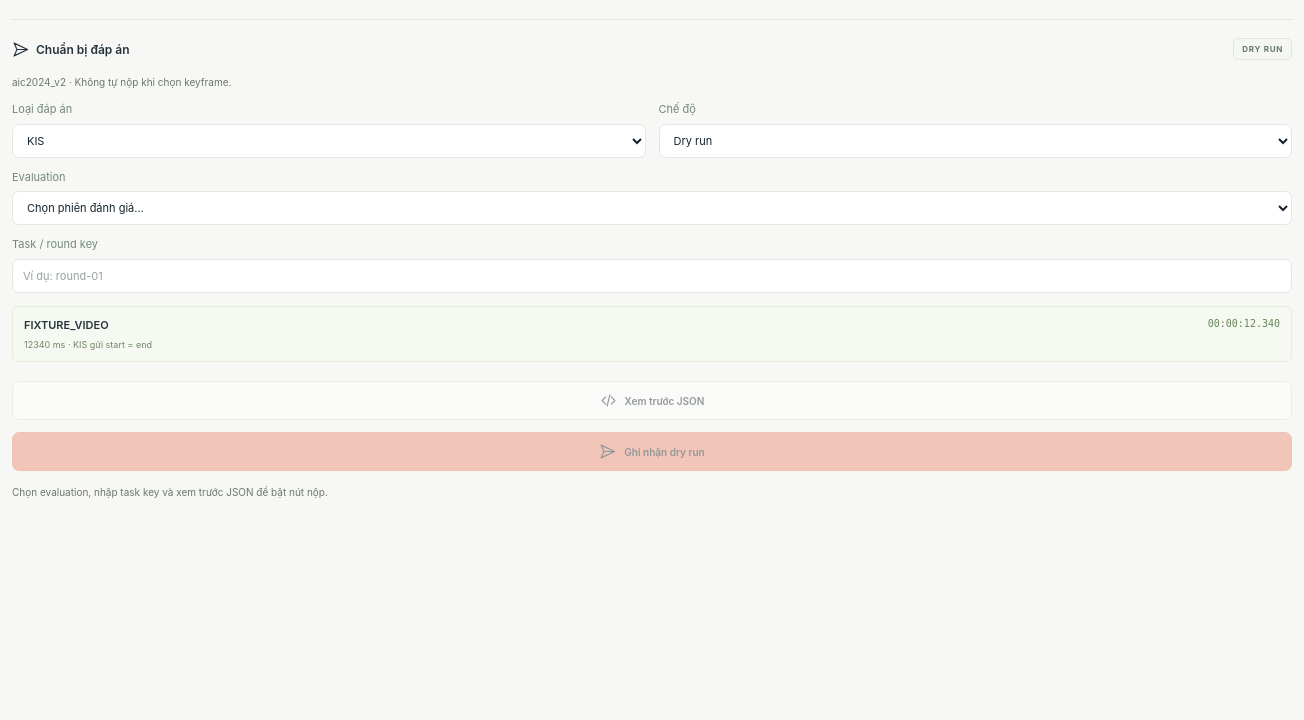
DRES deliberate submission › invalidates preview after the task changes
Select "Fixture · ACTIVE" in the dropdown labelled "Evaluation": (652, 208) [12, 191, 1292, 225]
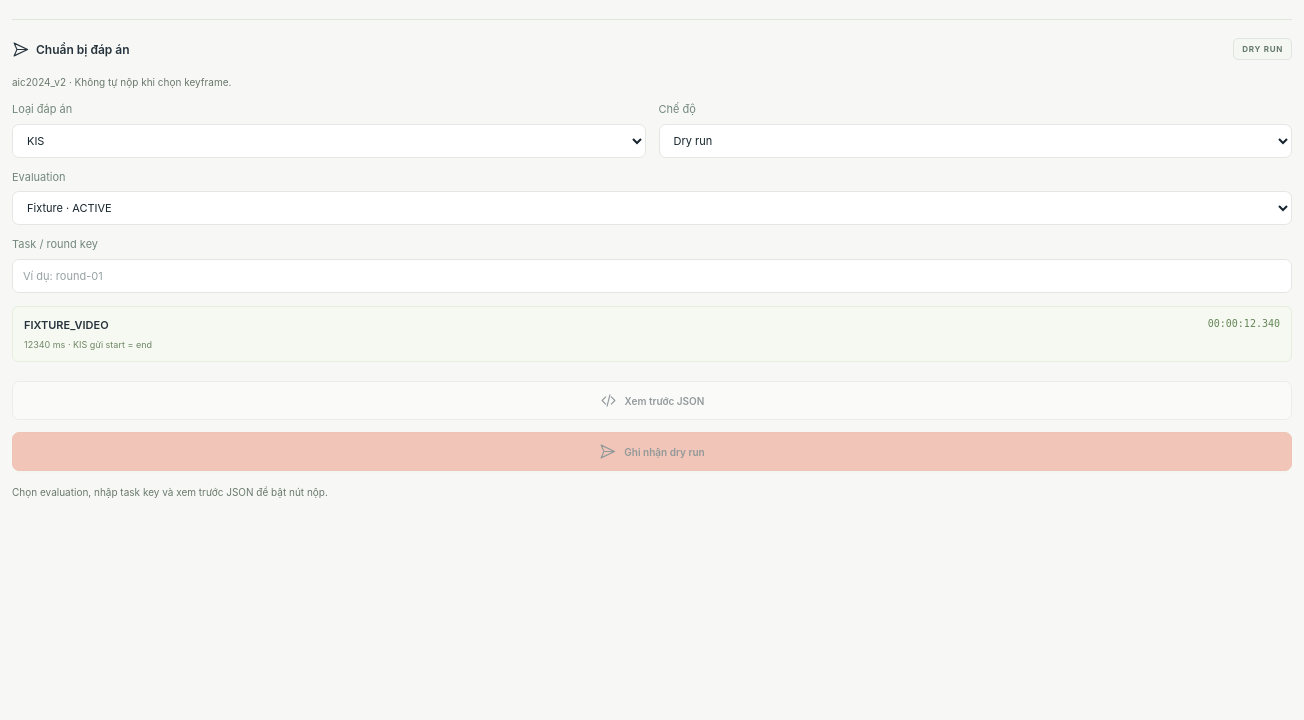
In the field labelled "Task / round key": (652, 276) [12, 258, 1292, 293], type "task-1"
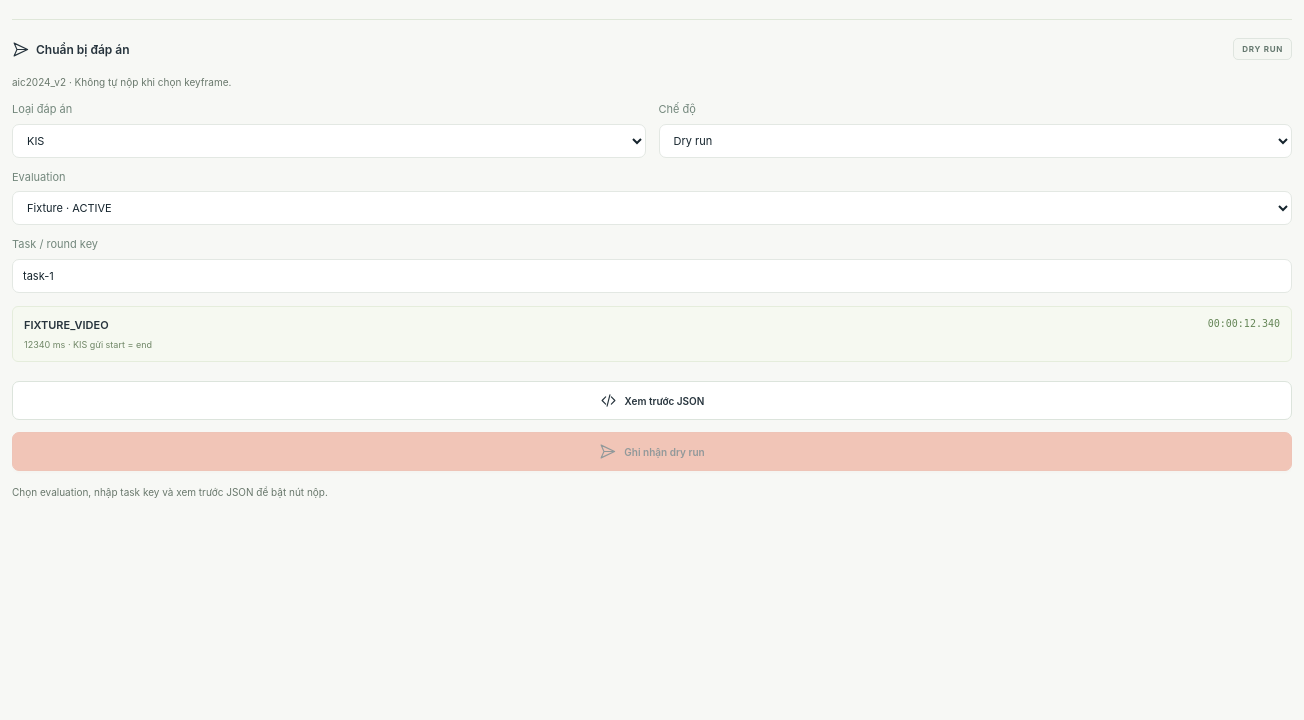
Click the button "Xem trước JSON": click(652, 400) [12, 381, 1292, 420]
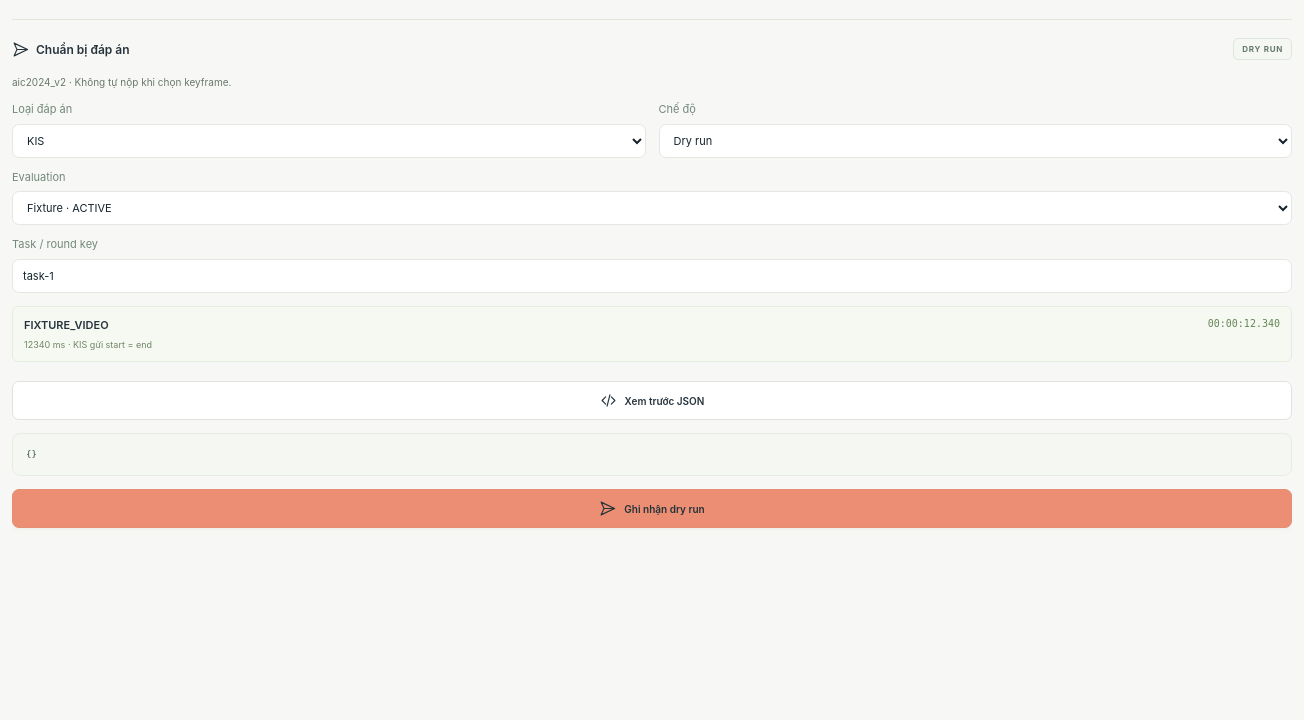
Expected: the button "Ghi nhận dry run" is enabled, [12, 489, 1292, 528]
Replace the text in the field labelled "Task / round key" with "task-2": (652, 276) [12, 258, 1292, 293]
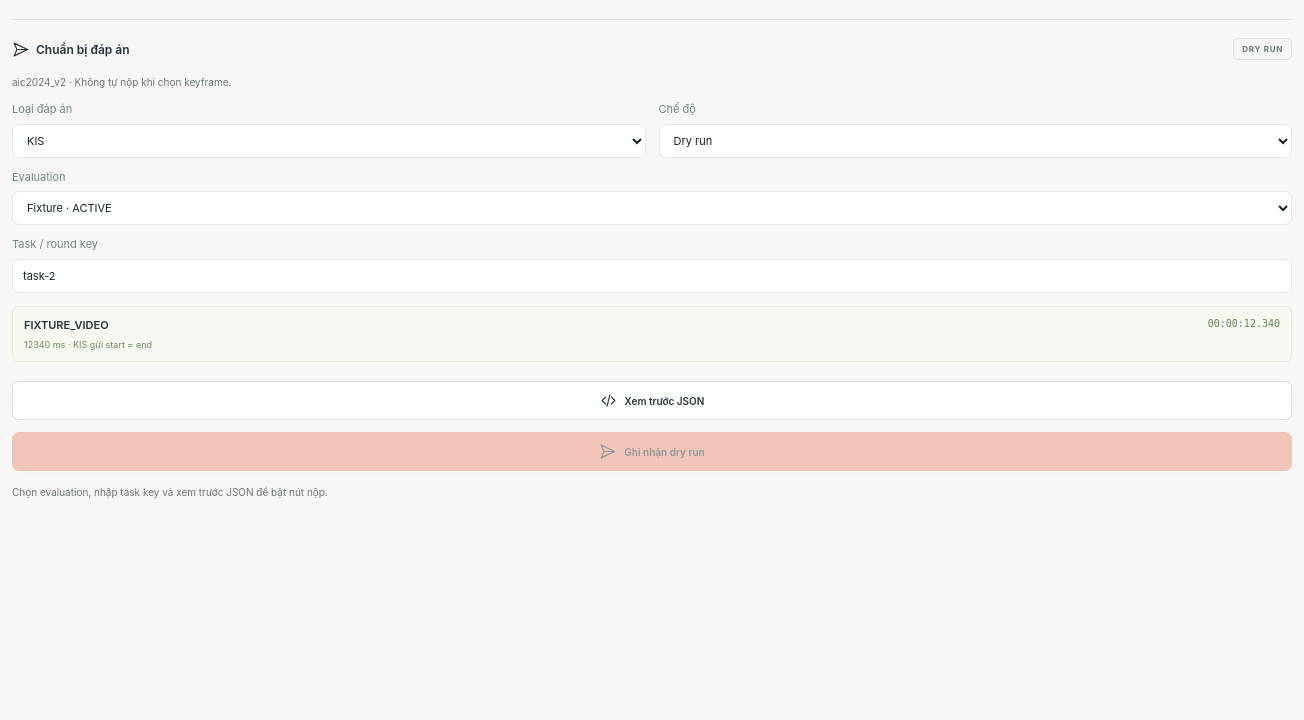
Expected: the button "Ghi nhận dry run" is disabled, [12, 432, 1292, 471]
